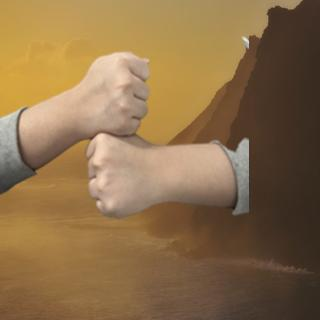CAREFUL: (11, 48, 243, 222)
